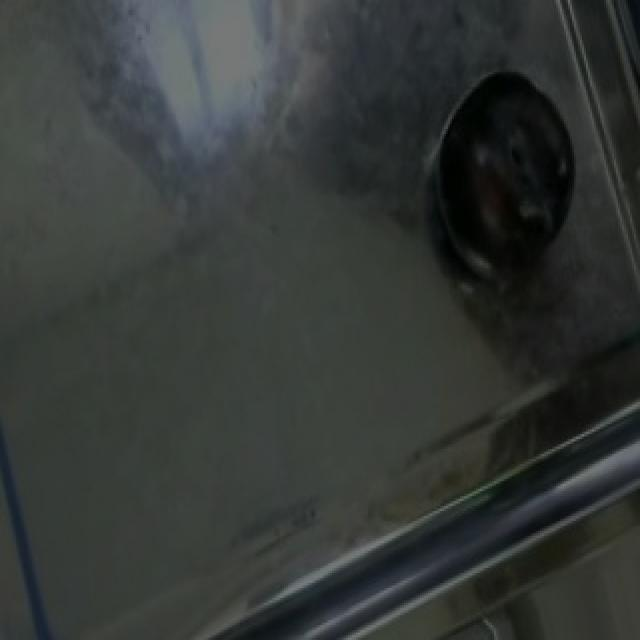Fruit: (416, 57, 602, 285)
